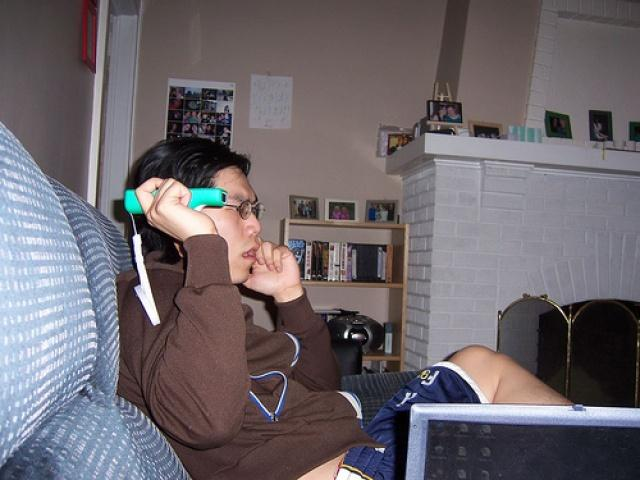Rak: (278, 217, 410, 375)
